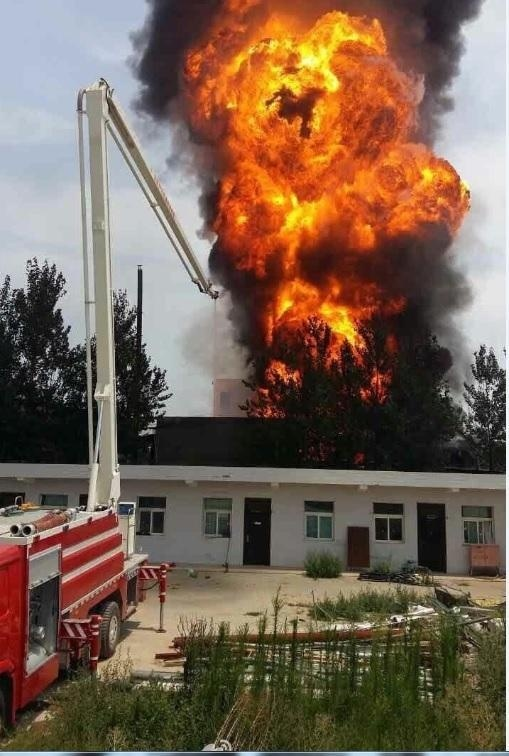fire: (194, 0, 462, 409)
